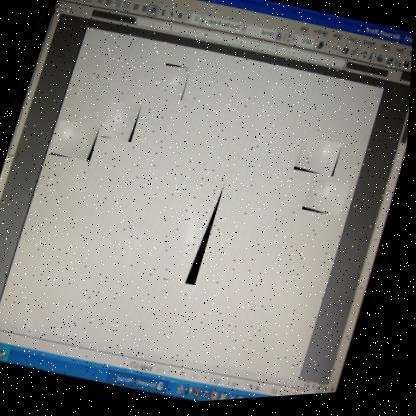spot: (165, 178, 227, 291), (50, 118, 102, 166), (294, 139, 345, 185), (303, 180, 351, 225), (101, 99, 144, 147), (156, 65, 192, 106)
